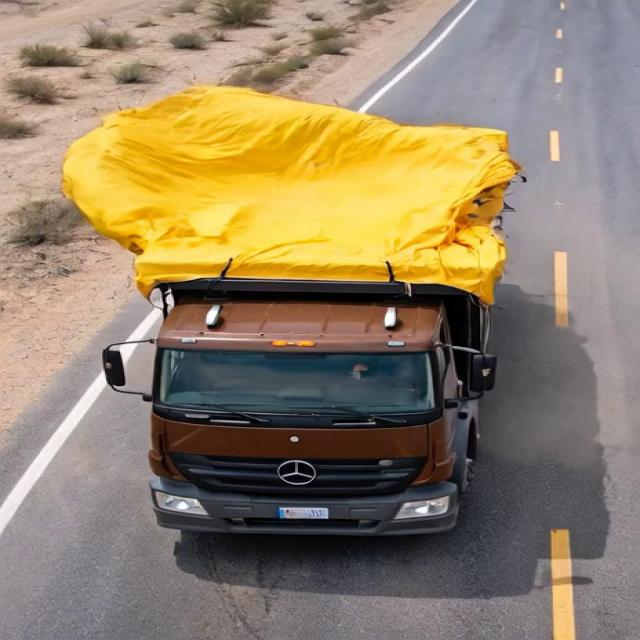trailer: (143, 108, 512, 290)
truck: (107, 98, 521, 551)
